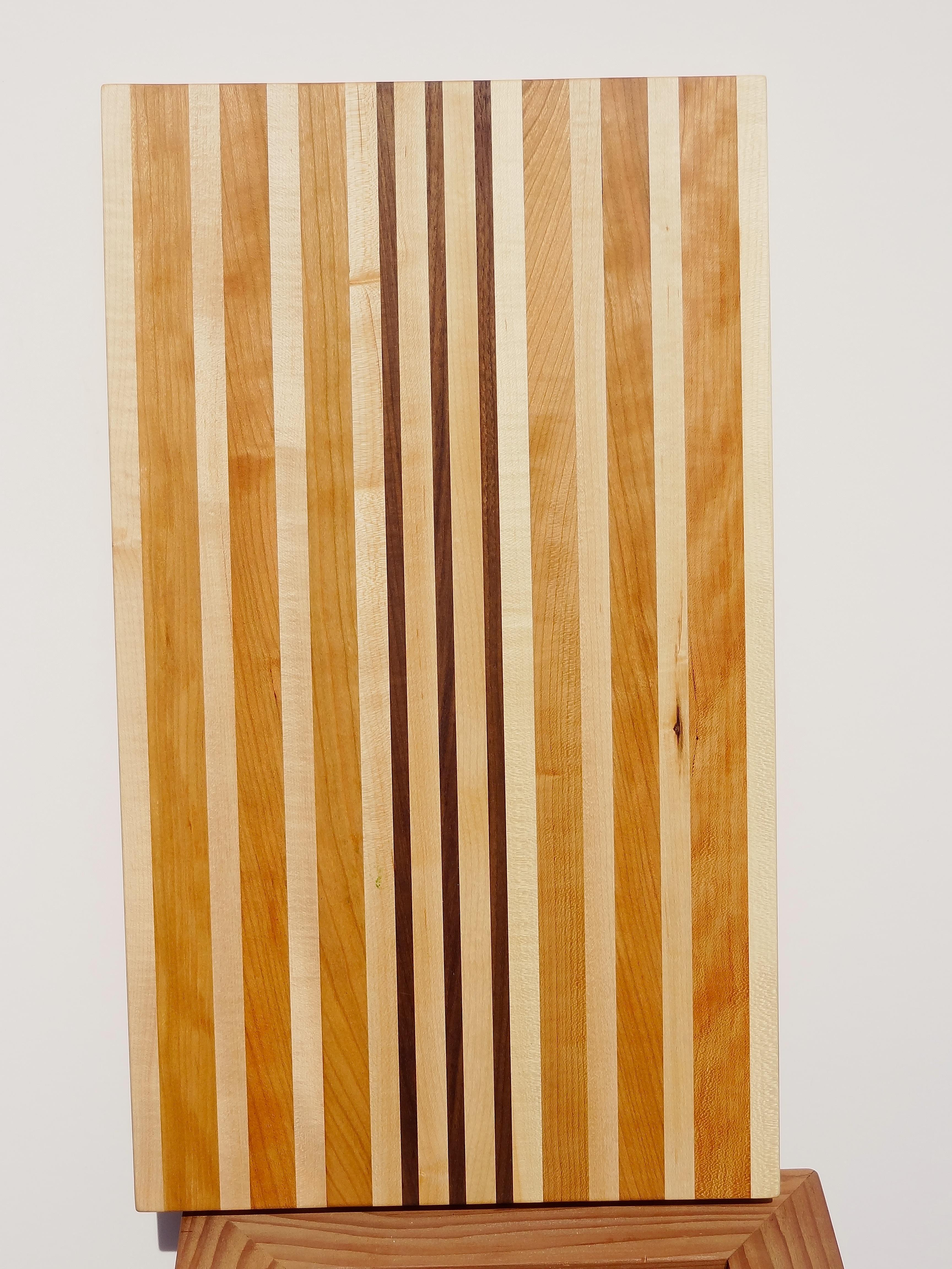gloved_hand: (86, 53, 799, 1217)
